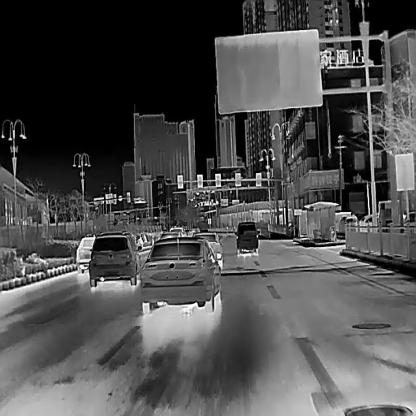car: (139, 236, 222, 314), (89, 232, 140, 286), (192, 232, 223, 259), (235, 221, 259, 253), (76, 233, 94, 271), (359, 213, 374, 231)
